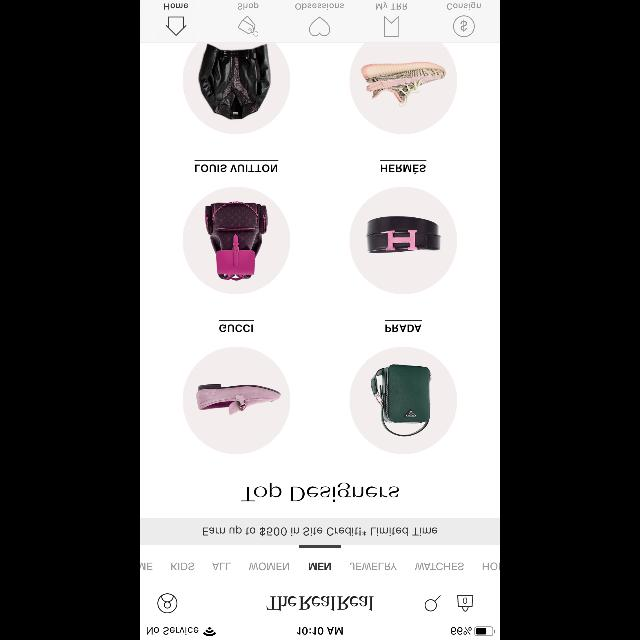icon: (158, 593, 178, 613), (454, 16, 474, 36), (238, 16, 258, 36), (166, 18, 187, 36), (310, 18, 330, 36), (384, 16, 398, 38), (457, 595, 473, 611), (425, 595, 441, 611)
image: (198, 44, 270, 120), (206, 202, 268, 280), (371, 364, 431, 436), (361, 62, 445, 106), (366, 216, 440, 254), (196, 384, 280, 416)
text: (241, 482, 399, 502), (203, 526, 437, 536), (266, 596, 374, 610), (195, 164, 277, 172), (381, 164, 425, 173), (415, 562, 463, 570), (349, 562, 396, 570), (249, 562, 289, 570), (385, 324, 421, 332), (296, 4, 344, 10), (447, 2, 481, 10), (220, 324, 252, 332), (376, 2, 406, 10), (172, 562, 194, 570), (238, 2, 258, 10), (164, 4, 188, 10), (309, 564, 331, 570), (213, 564, 231, 570)
uppertaskbar: (140, 626, 500, 640)
